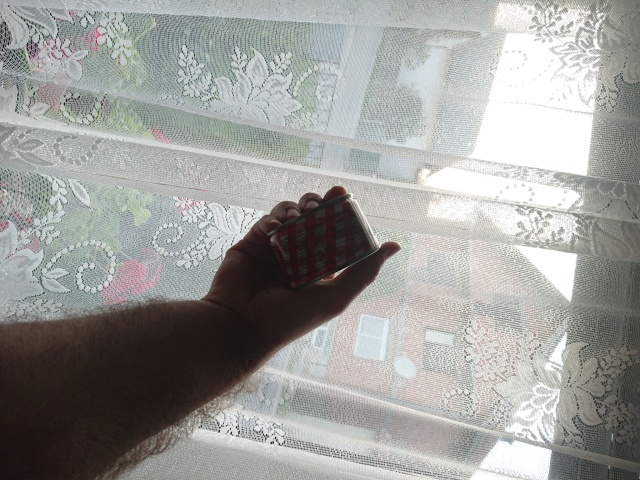Podravka Luncheon Meat 150g: (264, 191, 384, 293)
